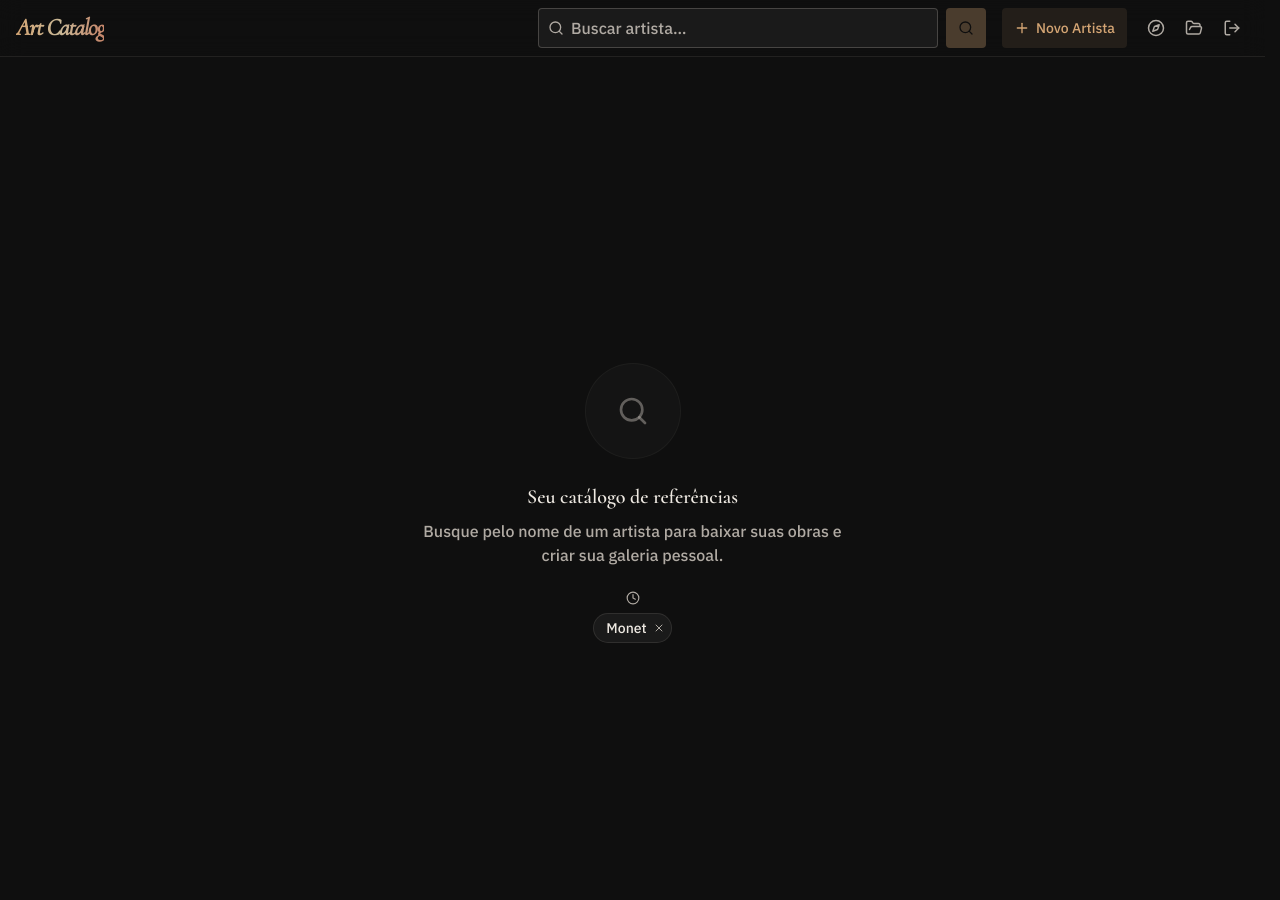
Test case: SearchPage › shows retry button on error
In the field with placeholder "Buscar artista…": (738, 28) x1=538 y1=8 x2=938 y2=48, type "Fail"
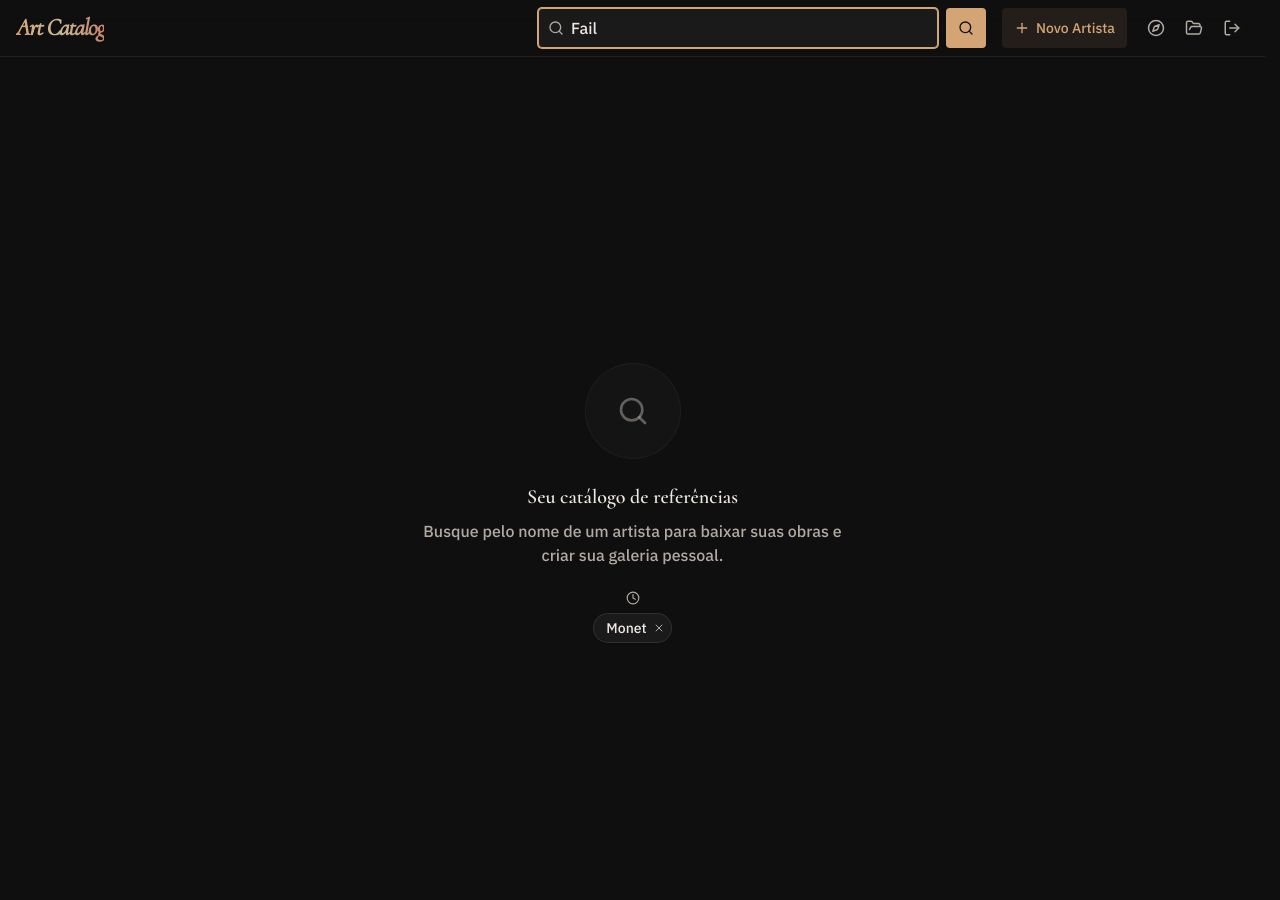
Click the button named "Buscar": (966, 28) x1=946 y1=8 x2=986 y2=48
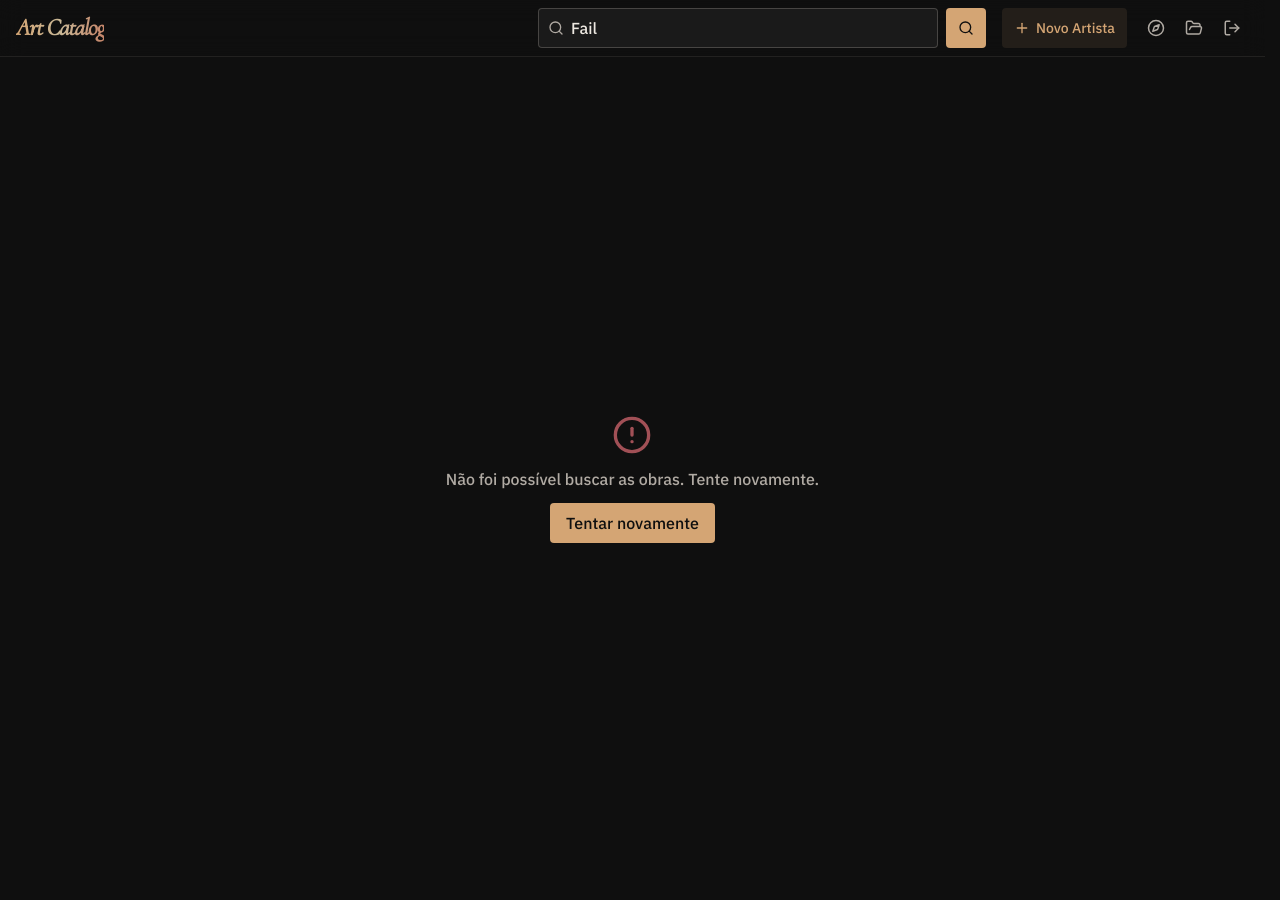
Now the text "Não foi possível buscar as obras. Tente novamente." is shown, box x1=446 y1=466 x2=819 y2=490
Now the button "Tentar novamente" is shown, box x1=550 y1=502 x2=715 y2=542
